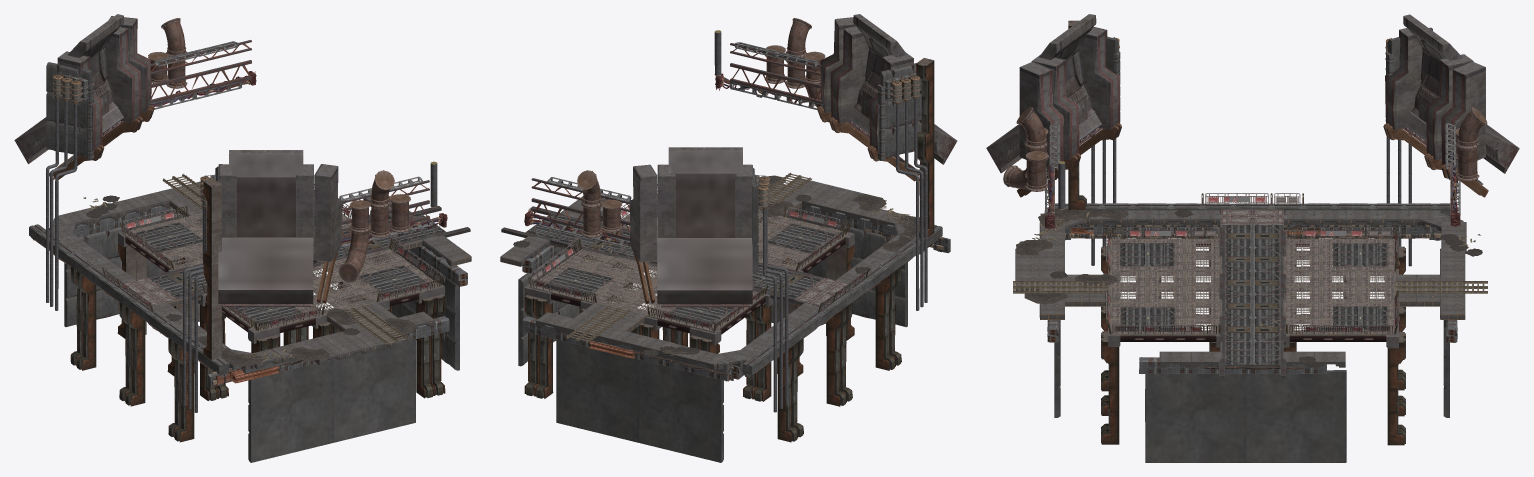
File: arena_thanatros.glb
3 renders of one model, left to right at view 1: azimuth 30°, elevation 25°; view 2: azimuth 150°, elevation 25°; view 3: azimuth 270°, elevation 25°, orthographic. The views are drawn at different scales.
Visible parts, largest first — view 1: arena; view 2: arena; view 3: arena.
Part boxes in pixels (left/top/right/bottom): arena: left=14, top=14, right=471, bottom=462; arena: left=500, top=14, right=957, bottom=462; arena: left=986, top=14, right=1519, bottom=462.
Bounding box in the file's own units: 65.81 × 55.57 × 84.73.
Materials: 36 (36 with a texture image).
